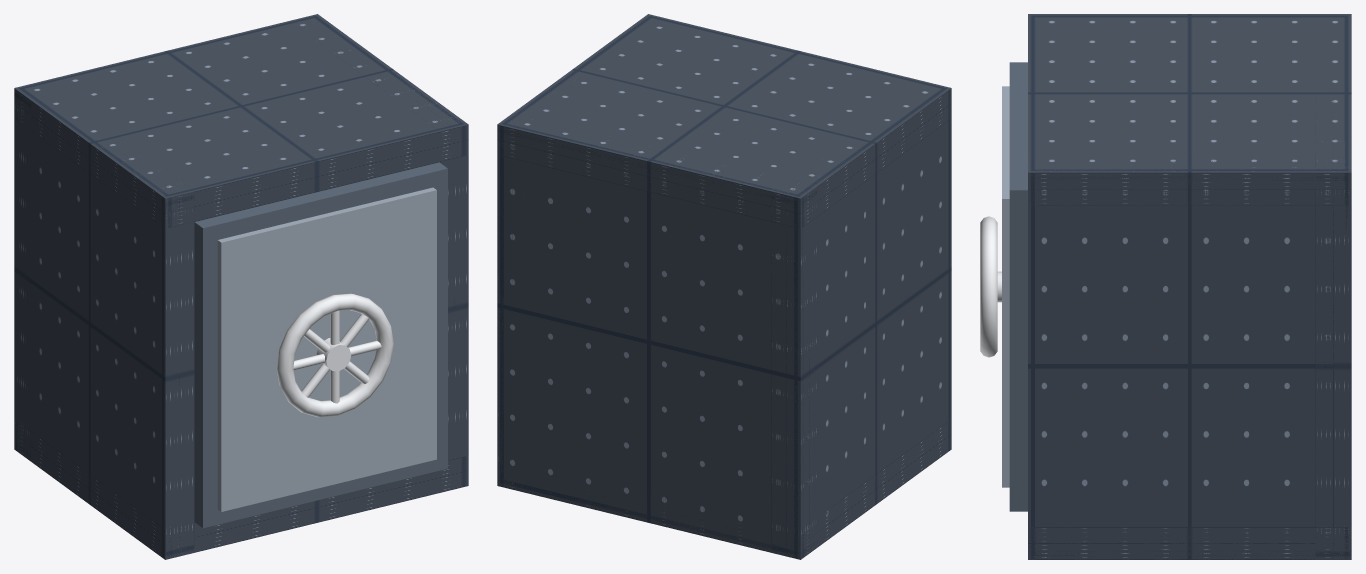
File: safe_bank_vault.glb
3 renders of one model, left to right at view 1: azimuth 30°, elevation 25°; view 2: azimuth 150°, elevation 25°; view 3: azimuth 270°, elevation 25°, orthographic. The views are drawn at different scales.
Parts seen in each view (by area): view 1: safe_bank_vault, safe_door_pivot, safe_wheel_pivot; view 2: safe_bank_vault; view 3: safe_bank_vault, safe_door_pivot, safe_wheel_pivot.
Boxes of the visible parts, x1,y1,x2,y2 form: safe_bank_vault: (14,14,468,559); safe_door_pivot: (194,162,447,528); safe_wheel_pivot: (276,293,393,417); safe_bank_vault: (497,14,951,559); safe_bank_vault: (1028,14,1351,559); safe_door_pivot: (1002,62,1027,511); safe_wheel_pivot: (980,216,1001,357).
Size of the model in its own units: 1.45 by 1.65 by 1.43.
Materials: 5 (1 with a texture image).
